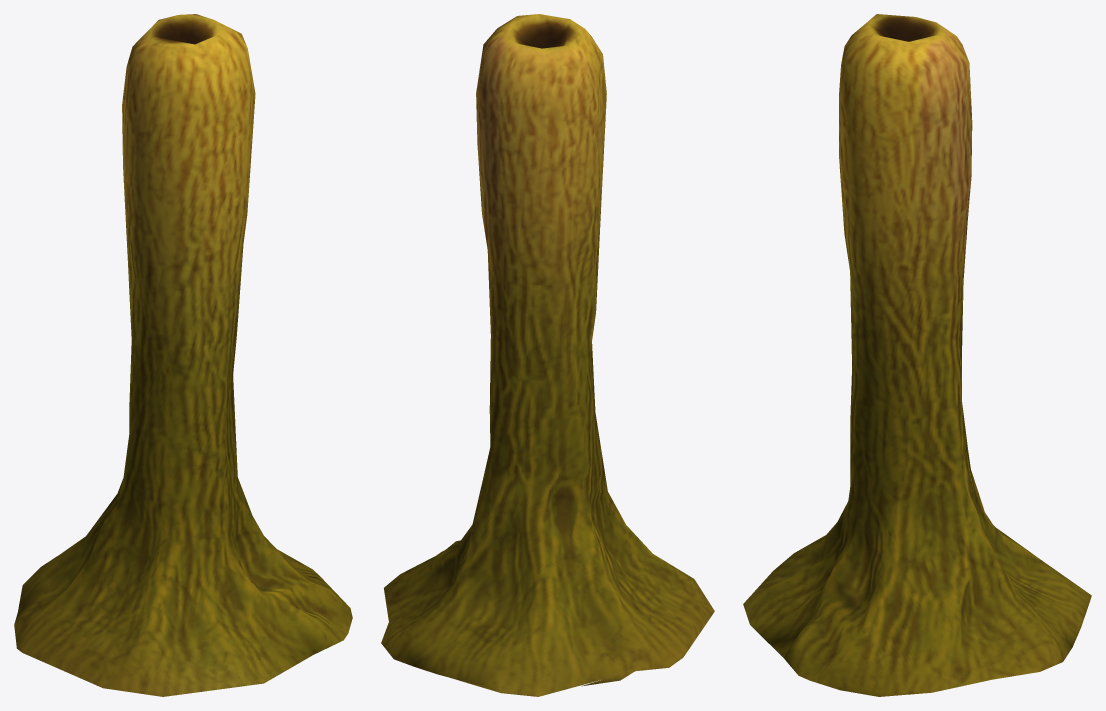
Rendered from Coral02.fbx.
3 renders of one model, left to right at view 1: azimuth 30°, elevation 25°; view 2: azimuth 150°, elevation 25°; view 3: azimuth 270°, elevation 25°, orthographic.
Parts seen in each view (by area): view 1: Coral3_2; view 2: Coral3_2; view 3: Coral3_2.
Part boxes in pixels (left/top/right/bottom): Coral3_2: left=14, top=14, right=352, bottom=696; Coral3_2: left=381, top=14, right=714, bottom=696; Coral3_2: left=743, top=14, right=1091, bottom=696.
Size of the model in its own units: 61.07 by 117 by 61.18.
